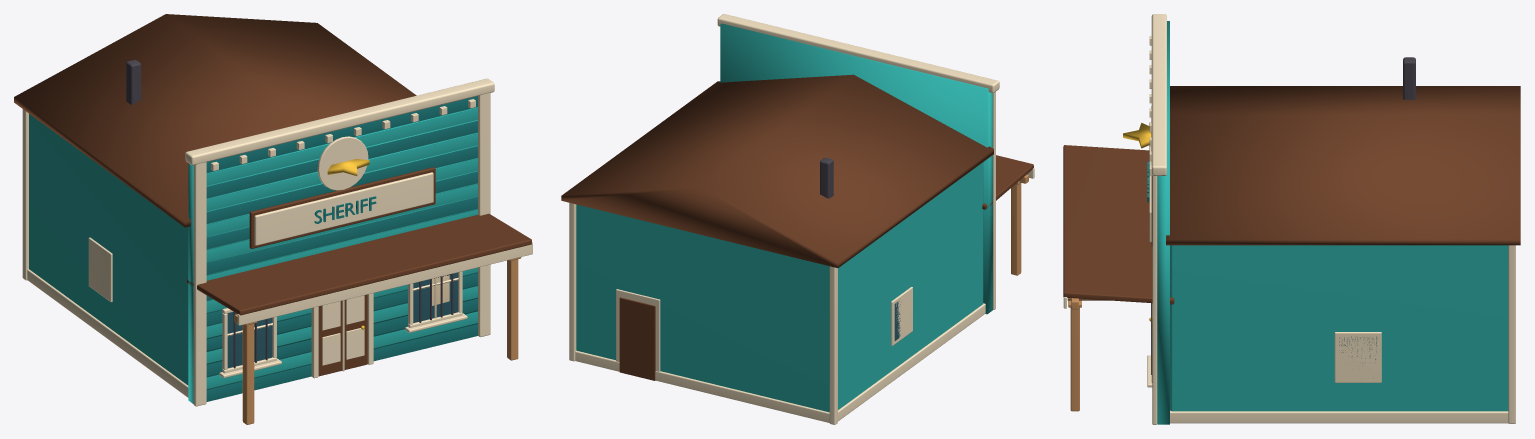
The model's file is gulch_sheriff.glb.
The picture shows the model from 3 angles, left to right: view 1: azimuth 30°, elevation 25°; view 2: azimuth 150°, elevation 25°; view 3: azimuth 270°, elevation 25°; orthographic projection. The views are drawn at different scales.
Parts seen in each view (by area): view 1: Sheriff; view 2: Sheriff; view 3: Sheriff.
Part boxes in pixels (x1,y1,x2,y2): Sheriff: (14,14,532,424); Sheriff: (561,14,1034,424); Sheriff: (1063,14,1520,424).
Size of the model in its own units: 8.5 by 6.73 by 10.7.
